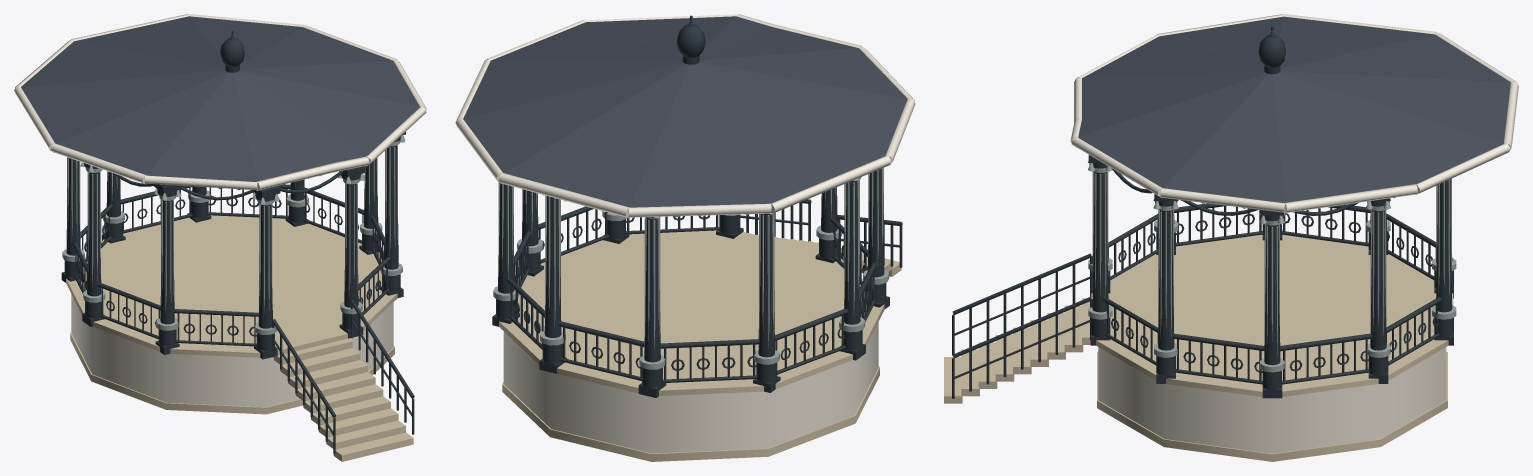
Rendered from vondelpark-bandstand.glb.
3 renders of one model, left to right at view 1: azimuth 30°, elevation 25°; view 2: azimuth 150°, elevation 25°; view 3: azimuth 270°, elevation 25°, orthographic. The views are drawn at different scales.
Parts seen in each view (by area): view 1: vondelpark-bandstand; view 2: vondelpark-bandstand; view 3: vondelpark-bandstand.
Boxes of the visible parts, x1,y1,x2,y2 form: vondelpark-bandstand: [14, 14, 426, 461]; vondelpark-bandstand: [455, 14, 915, 461]; vondelpark-bandstand: [944, 14, 1518, 461].
Size of the model in its own units: 9.28 by 8 by 11.68.
